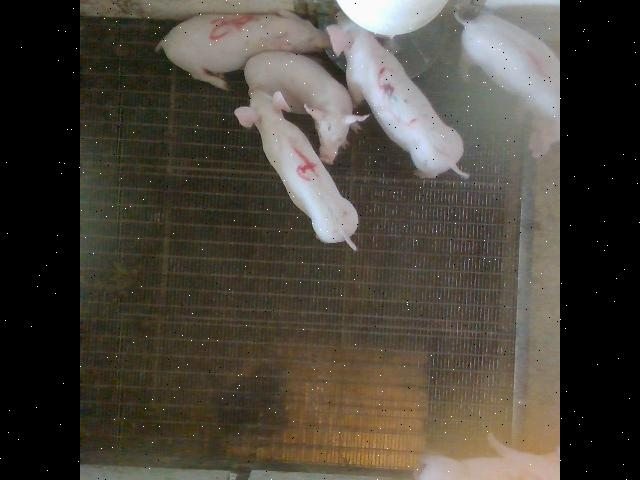pig-1: (458, 14, 559, 116)
pig-2: (419, 434, 558, 480)
pig-3: (326, 11, 468, 178)
pig-4: (235, 90, 357, 249)
pig-5: (156, 10, 329, 89)
